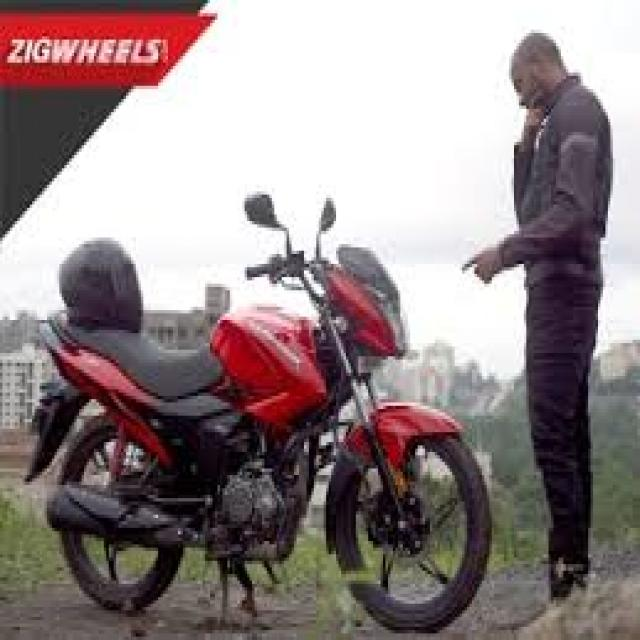Bike: (22, 192, 493, 635)
